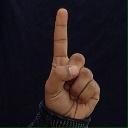hand: (43, 7, 100, 120)
